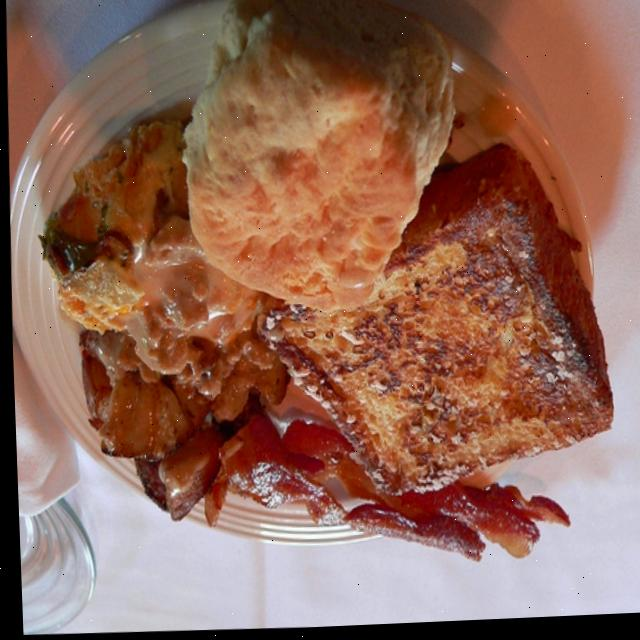面包点心: (1, 0, 638, 607)
